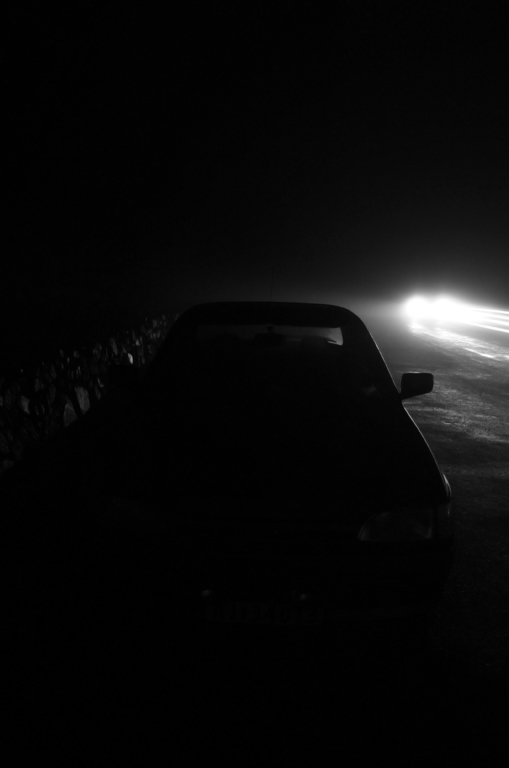car: (68, 296, 460, 642)
